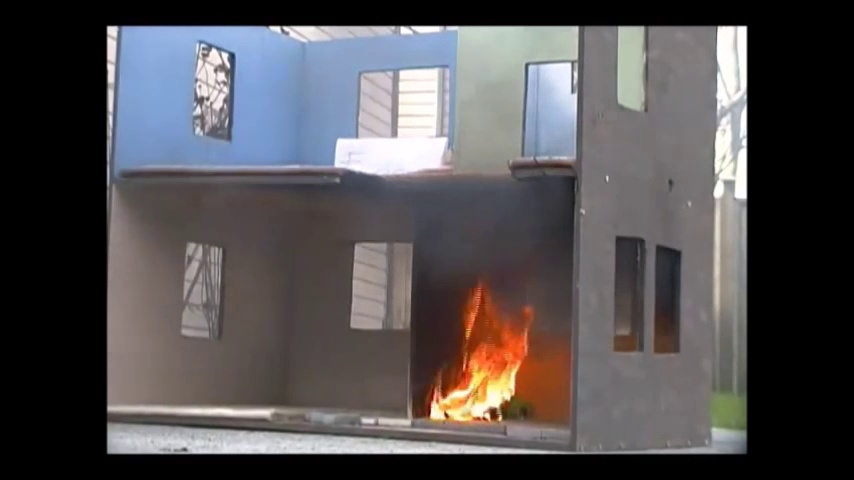fire: (429, 295, 526, 424)
